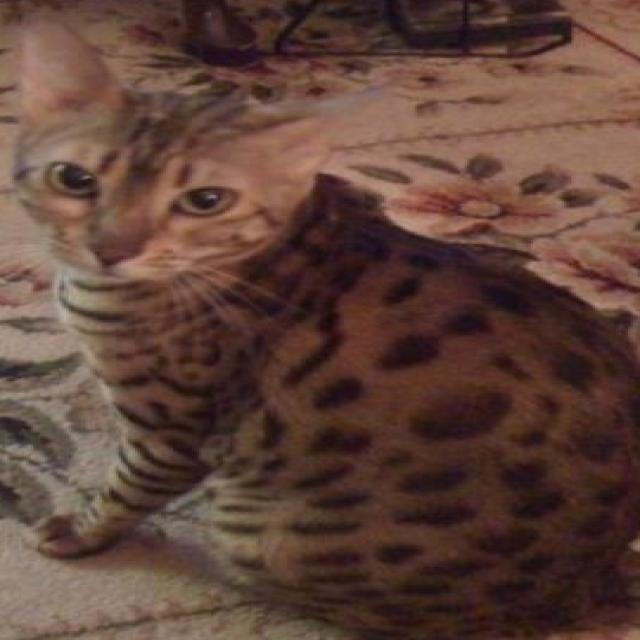Bengal: (7, 16, 640, 640)
